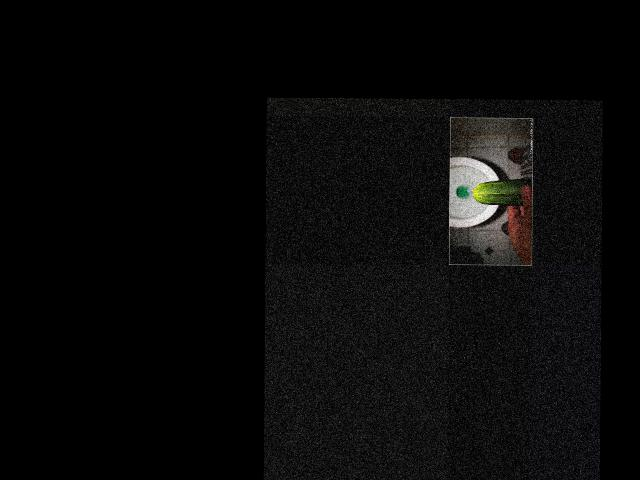cucumber: (473, 177, 533, 205)
